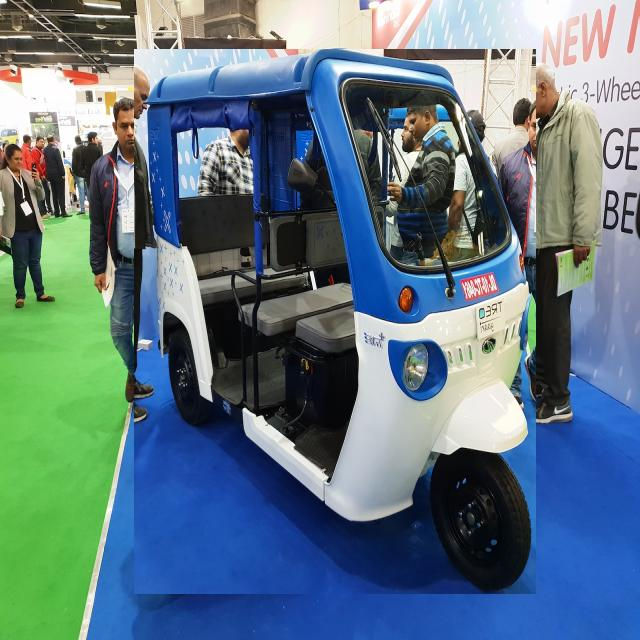autorickshaw: (134, 50, 536, 594)
